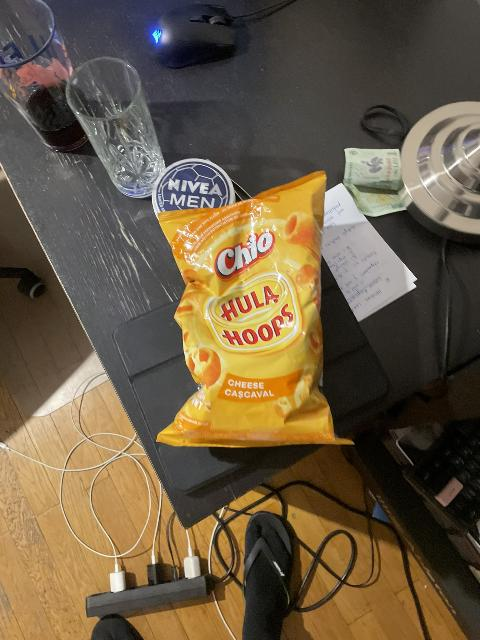Chio Hula Hoops Cheese 70g: (151, 171, 353, 448)
